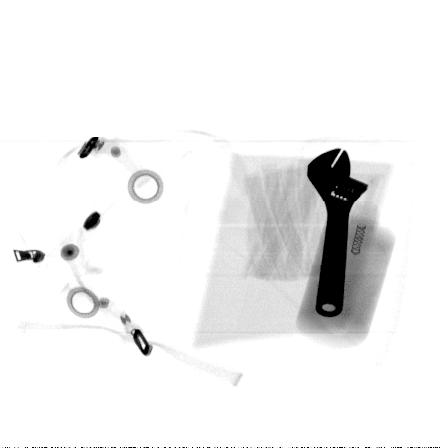Wrench: (304, 148, 371, 317)
